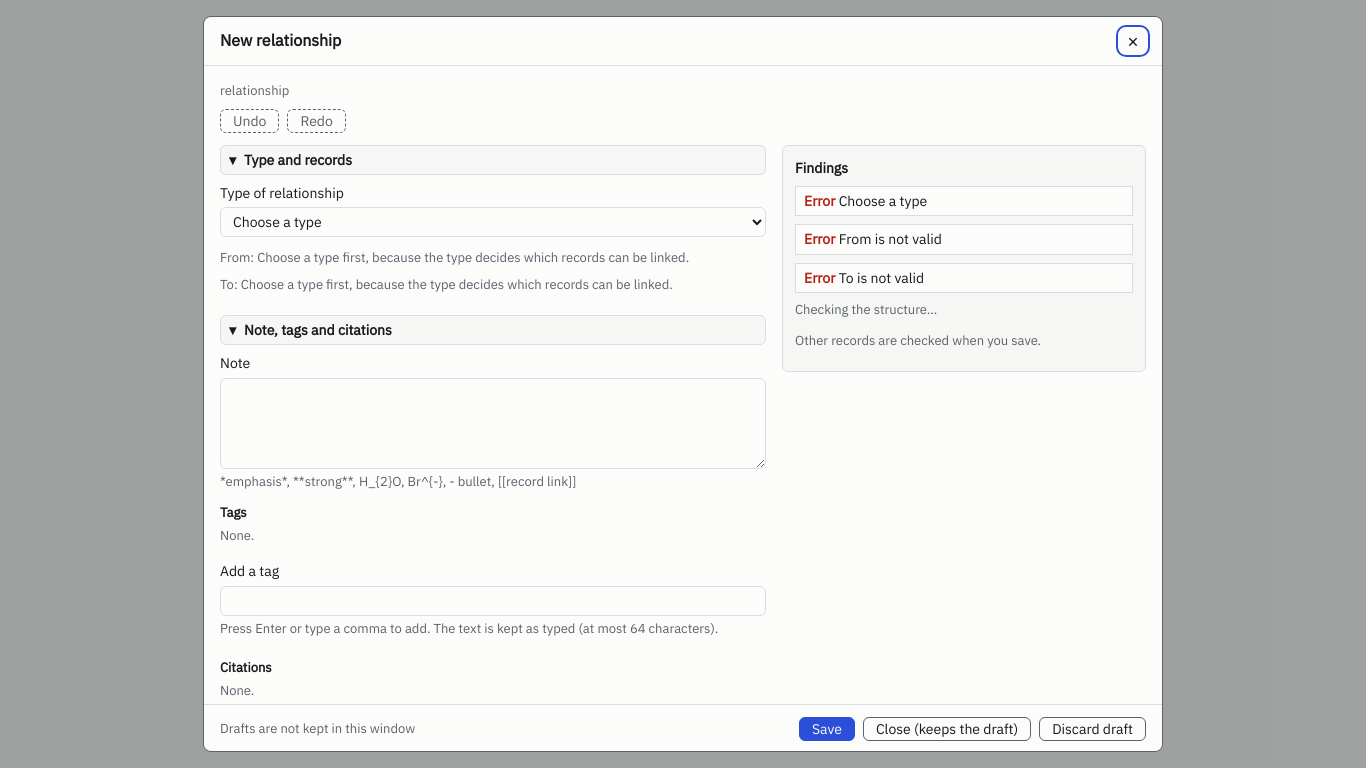
Test: the reverse kind › a reverse kind left on another type is shown with the reason and removed only by the person
Select "Reverse of" in the dropdown labelled "Type of relationship" at (493, 222), box [220,207,766,237]
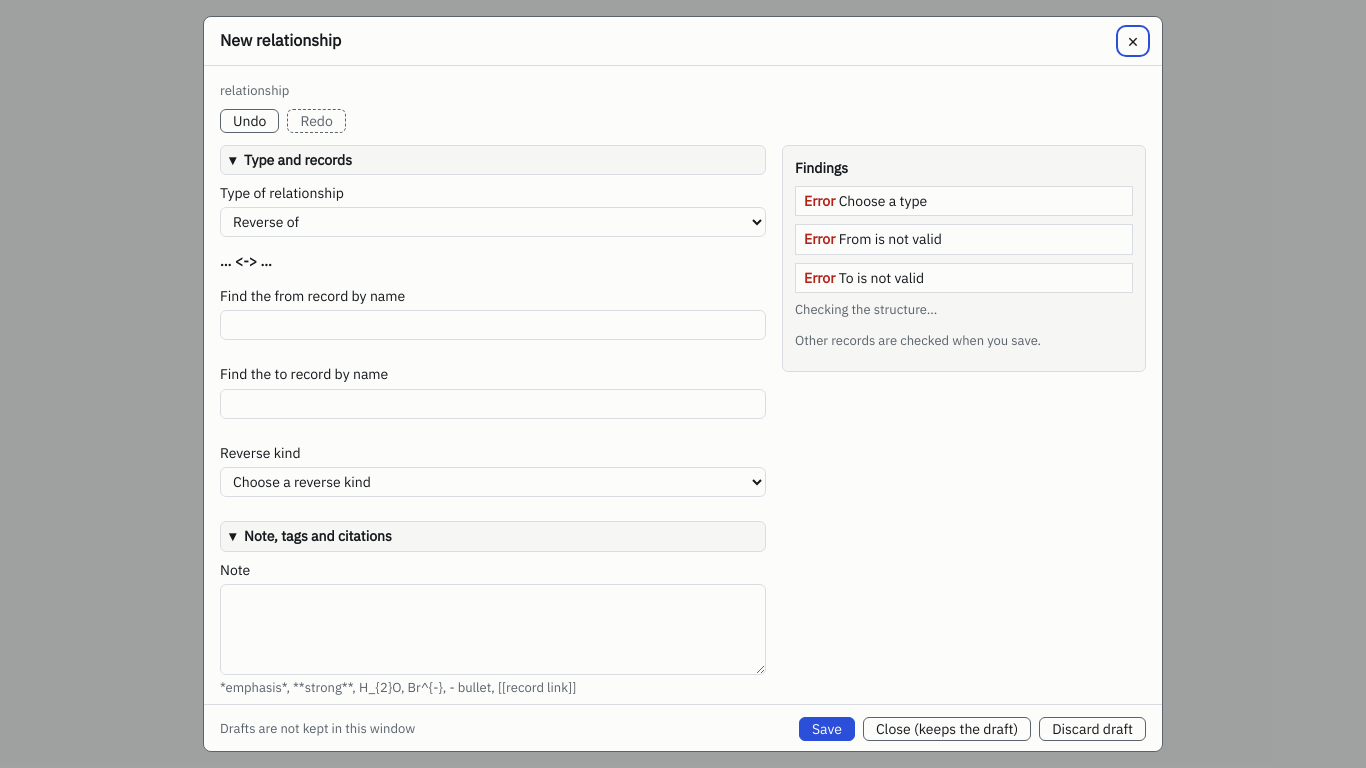
Select "Conceptual (taught as opposites)" in the dropdown labelled "Reverse kind" at (493, 482), box [220,467,766,497]
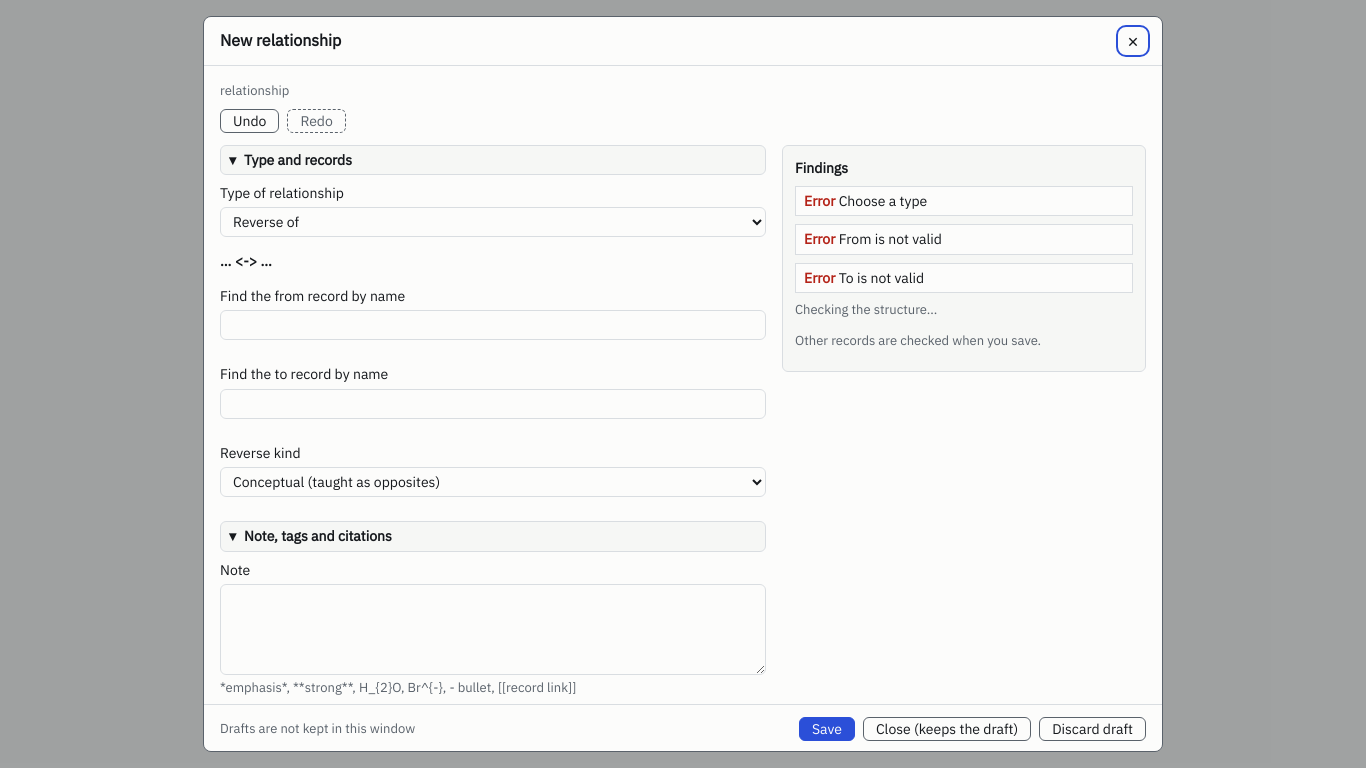
Select "Related to" in the dropdown labelled "Type of relationship" at (493, 222), box [220,207,766,237]
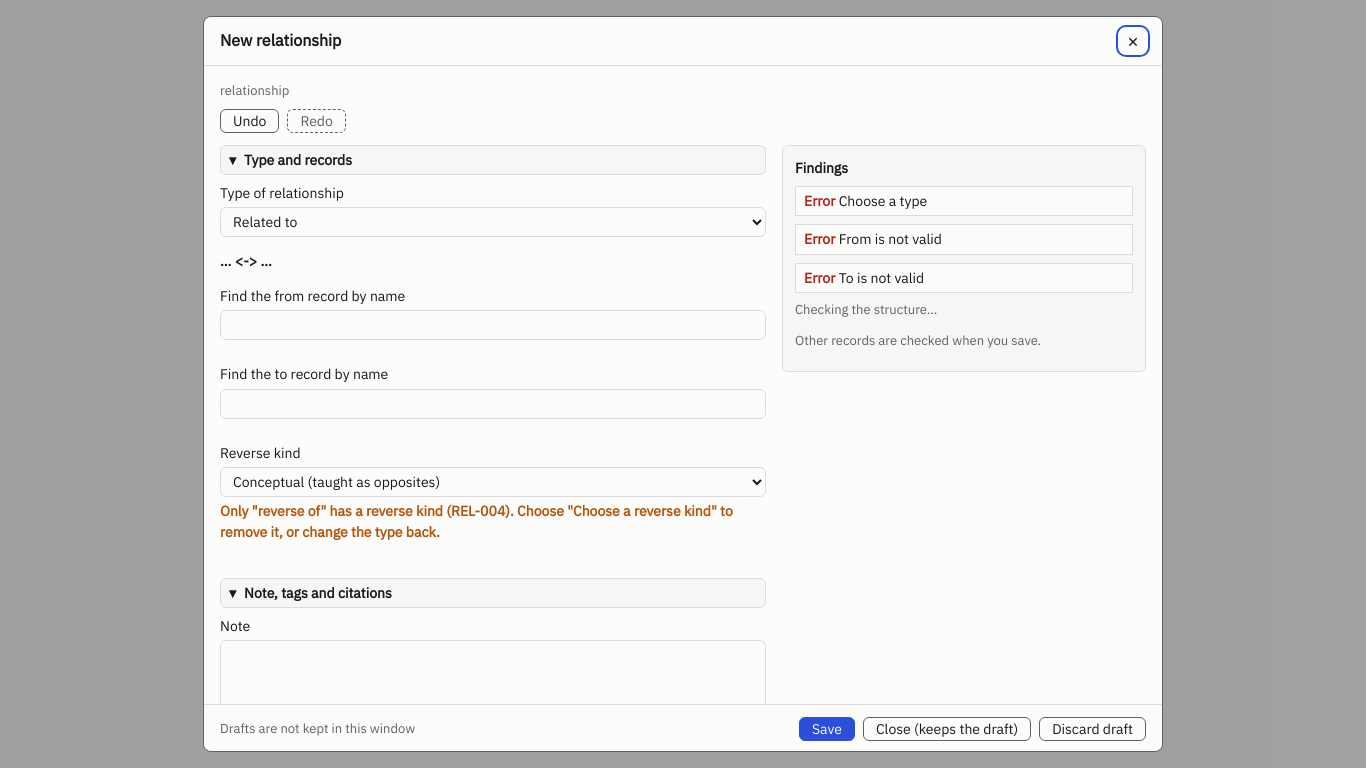
Expected: the text "Only \"reverse of\" has a reverse kind" is shown, [220,502,733,540]
Select "Choose a reverse kind" in the dropdown labelled "Reverse kind" at (493, 482), box [220,467,766,497]
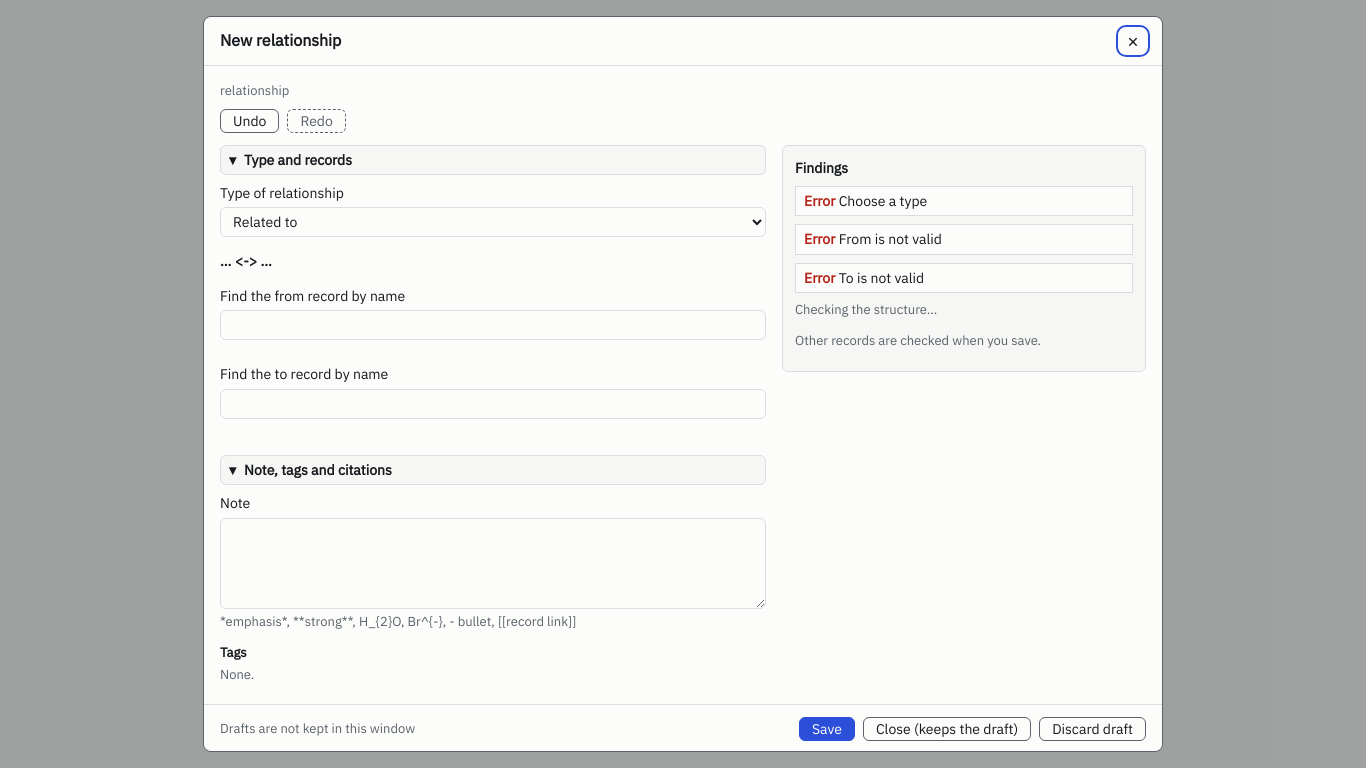
Expected: the label labelled "Reverse kind" is gone
